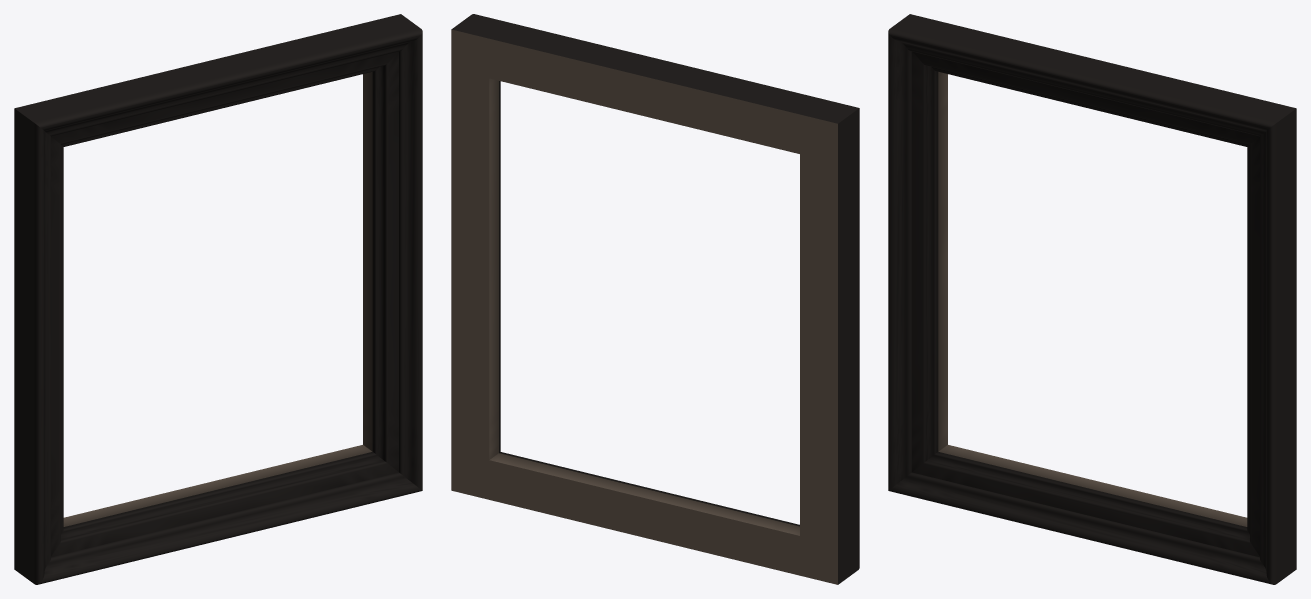
File: 03-devushka-s-zhemchuzhnoy-serezhkoy.glb
3 renders of one model, left to right at view 1: azimuth 30°, elevation 25°; view 2: azimuth 150°, elevation 25°; view 3: azimuth 330°, elevation 25°, orthographic.
Visible parts, largest first — view 1: Frame; view 2: Frame; view 3: Frame.
Boxes of the visible parts, x1,y1,x2,y2 form: Frame: (14,14,422,584); Frame: (451,14,859,584); Frame: (888,14,1296,584).
Size of the model in its own units: 1.04 by 1.19 by 0.1086.
